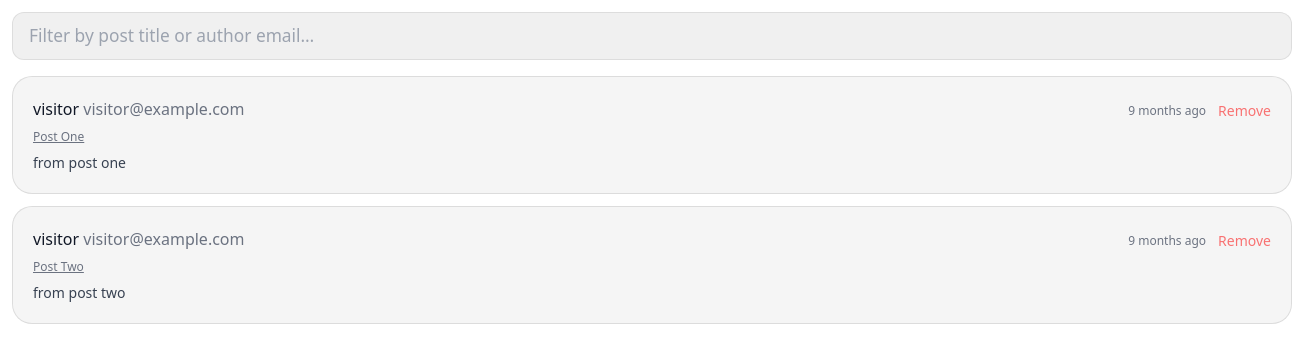
Test case: CommentsModerationClient - filter › filters by post title substring
In the field named "Filter comments": (652, 36) [12,12,1292,60], type "One"
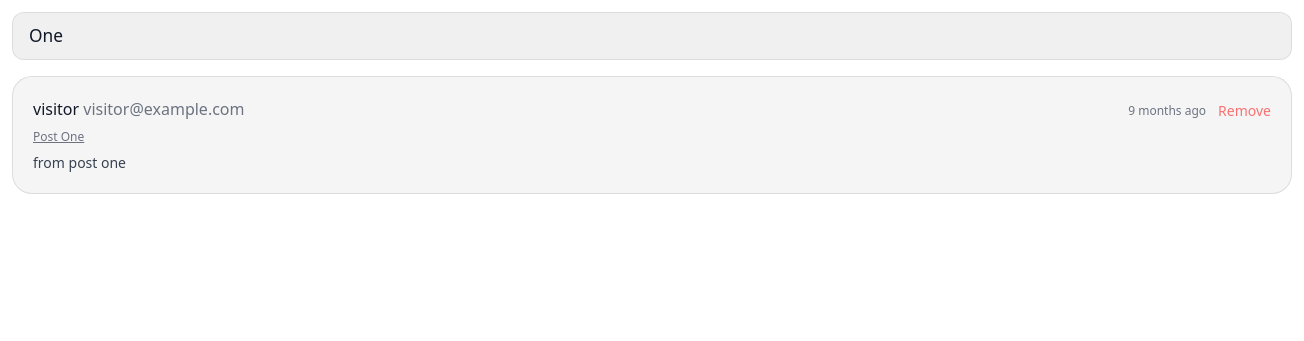
Expected: the text "from post one" is shown, [33,153,126,172]
Now the text "from post two" is gone
